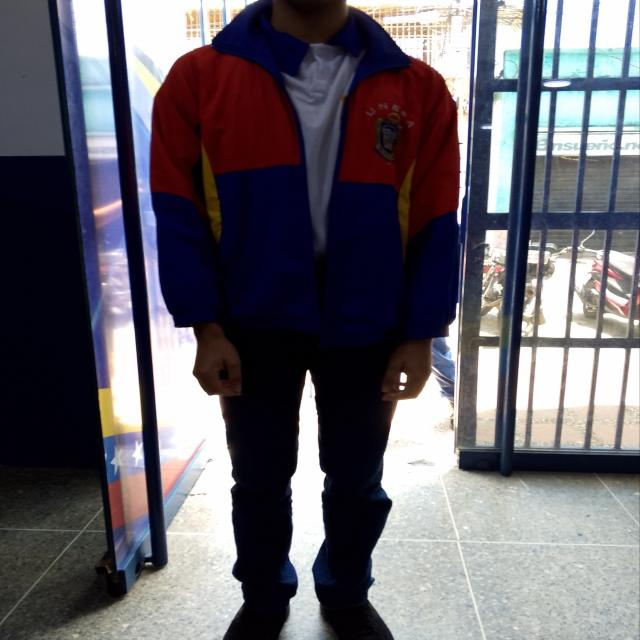chaqueta_unefa: (149, 0, 462, 342)
pantalon_oscuro: (215, 320, 394, 614)
